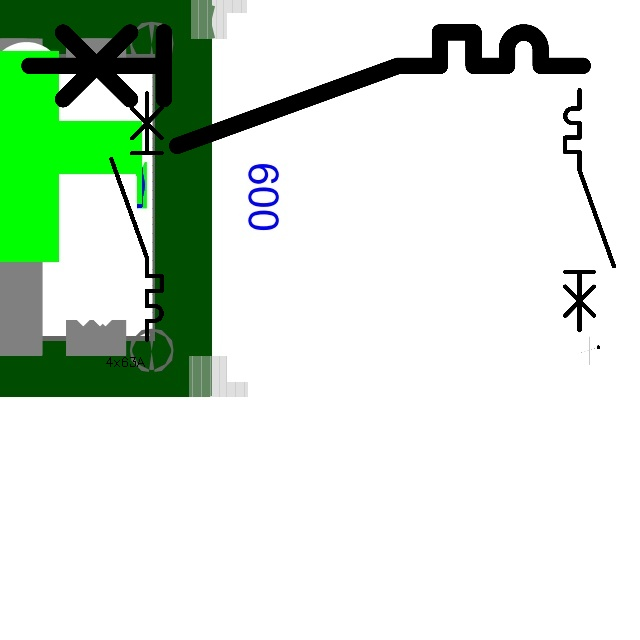interruptor_termomagnetico: (15, 18, 597, 160), (105, 87, 168, 346), (559, 84, 620, 336)
